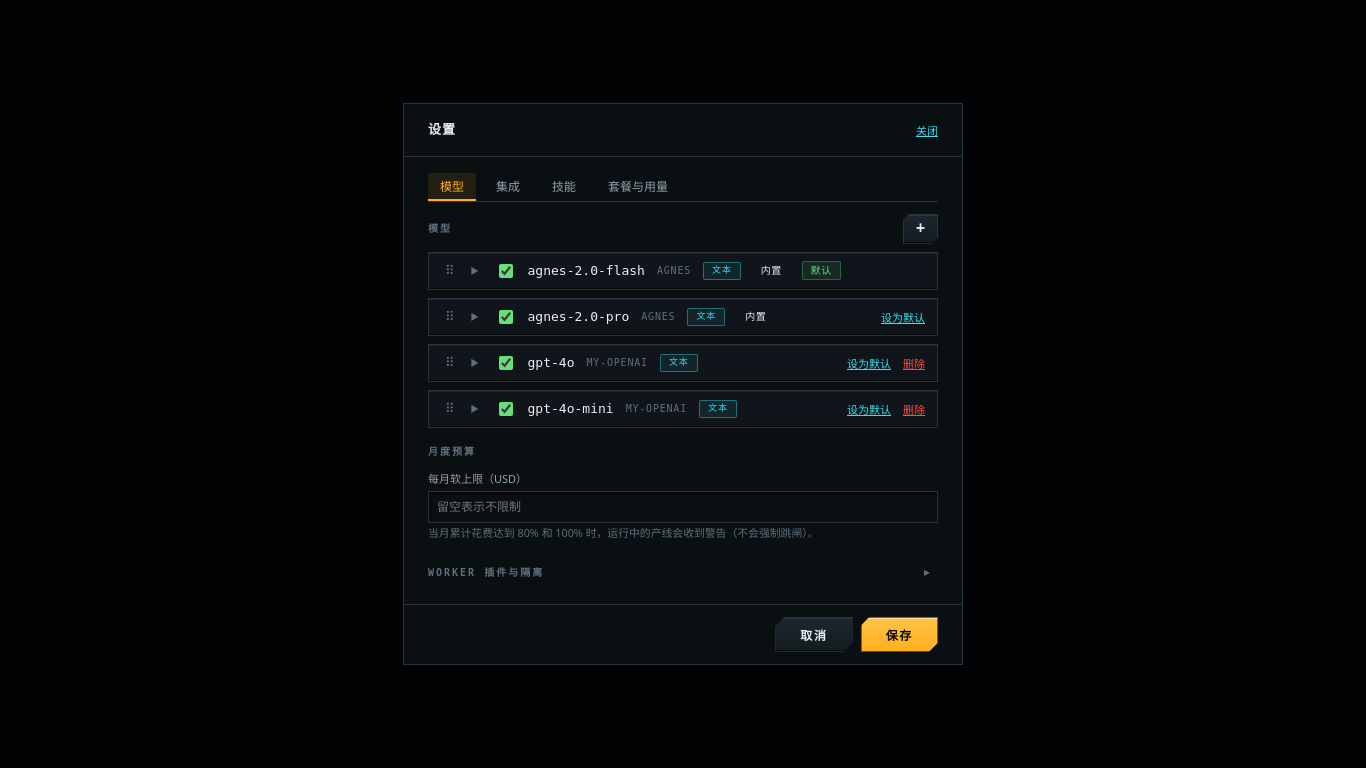
Test case: Settings › 渲染 › 切到集成标签页显示搜索与 MCP
Click the tab "集成". click: (508,187)
box: [484, 173, 532, 201]
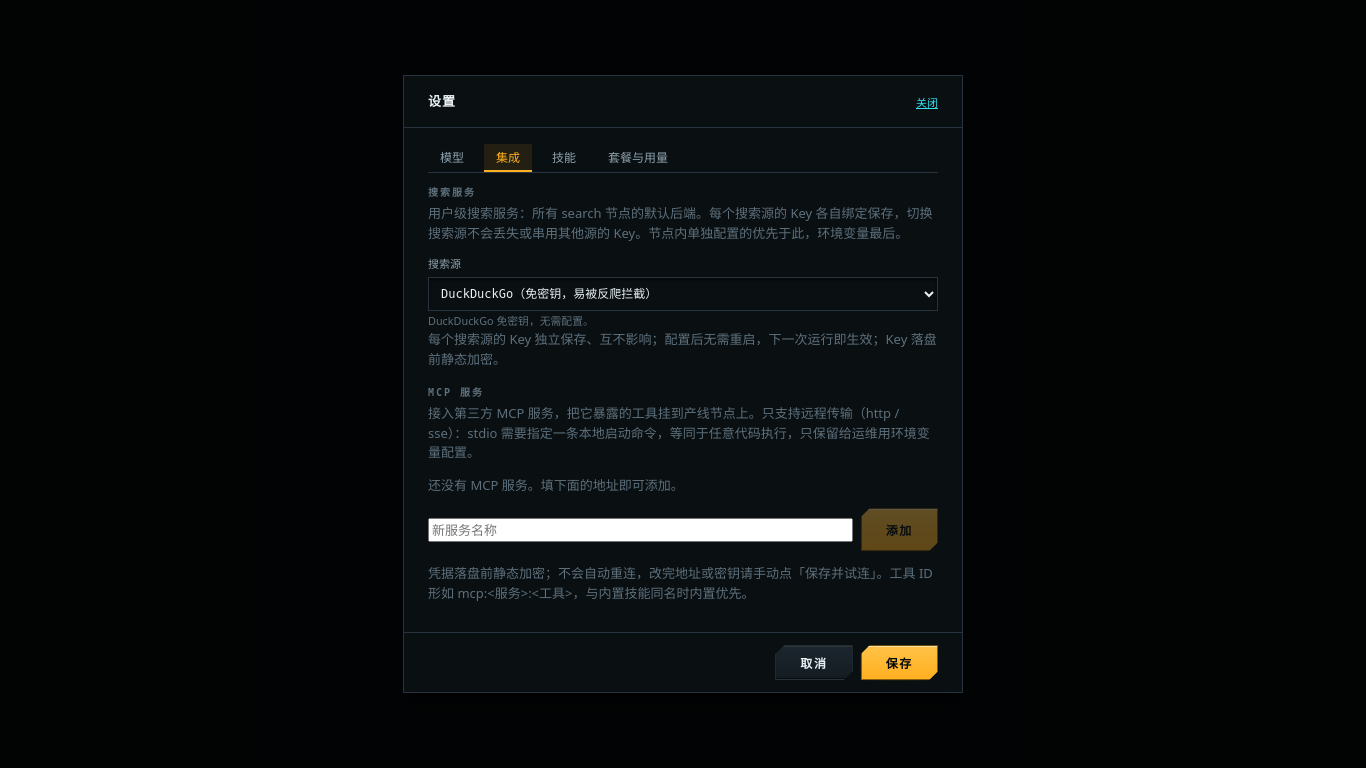
Now the heading "搜索服务" is shown, box [428, 185, 476, 200]
Now the text "还没有 MCP 服务。填下面的地址即可添加。" is shown, box [428, 476, 684, 494]
Now the button "+" is gone
